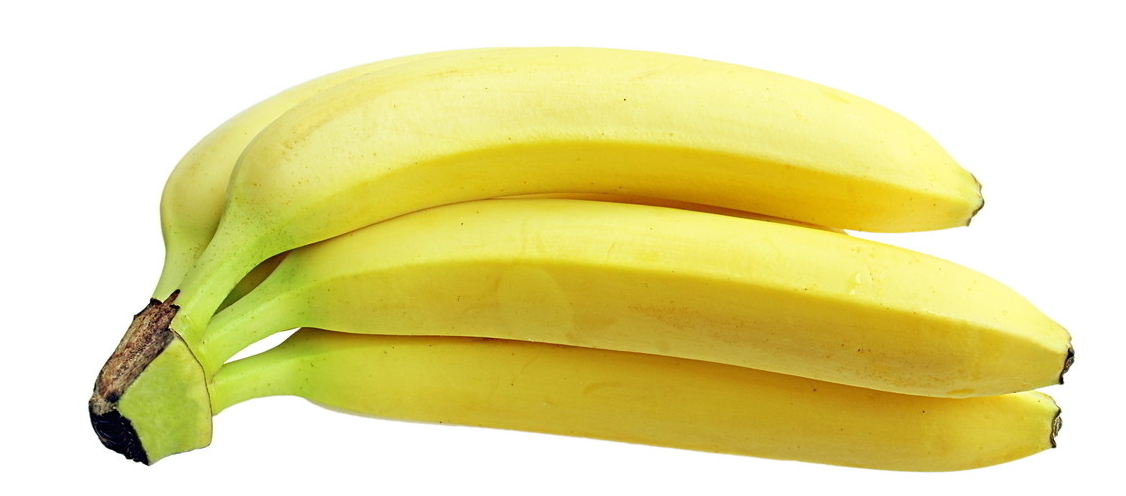banana: (203, 227, 1102, 394), (213, 59, 1003, 242), (236, 340, 1085, 477)
